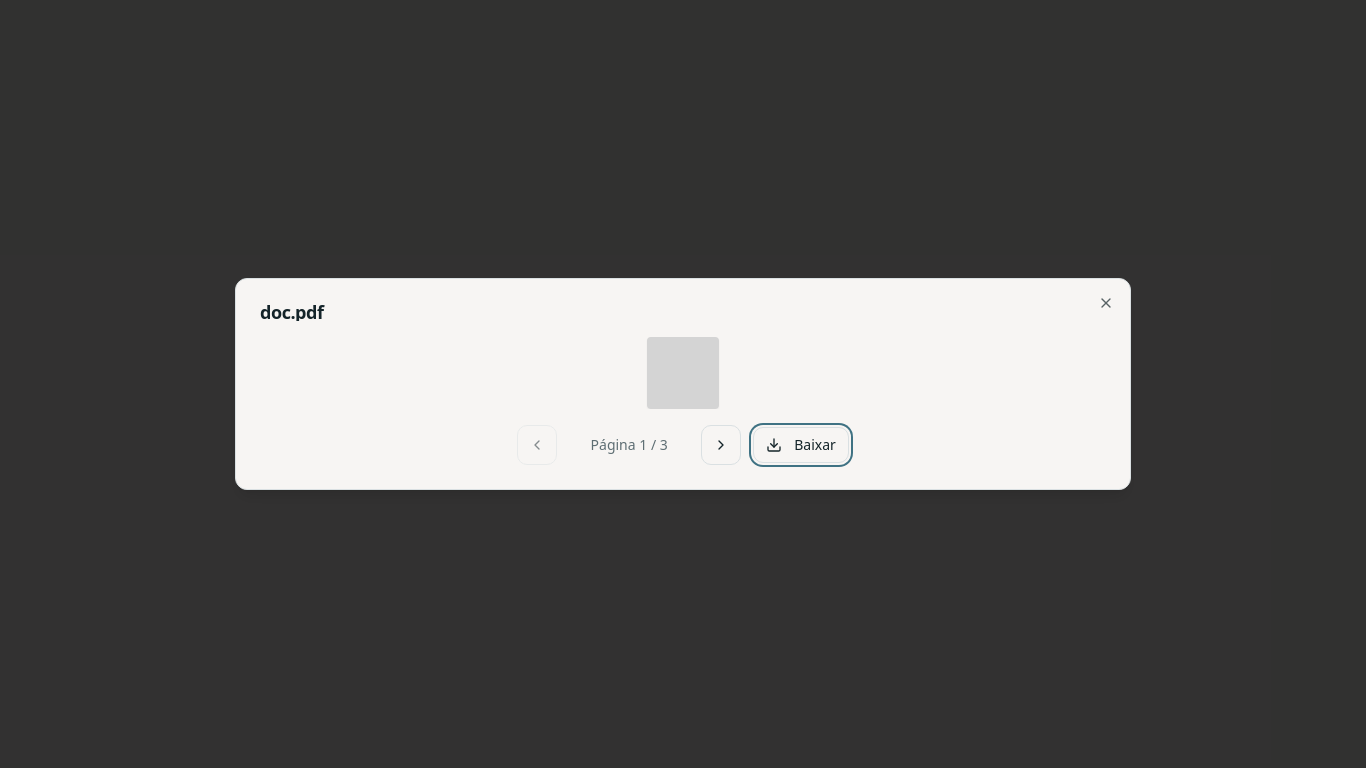
Test: PdfPreviewModal › navigates pages forward and backward via the chevron buttons
Check: the text "Página 1 / 3" is shown, box [591,435,668,454]
Click the 3rd button: [721, 445] box [701,425,741,465]
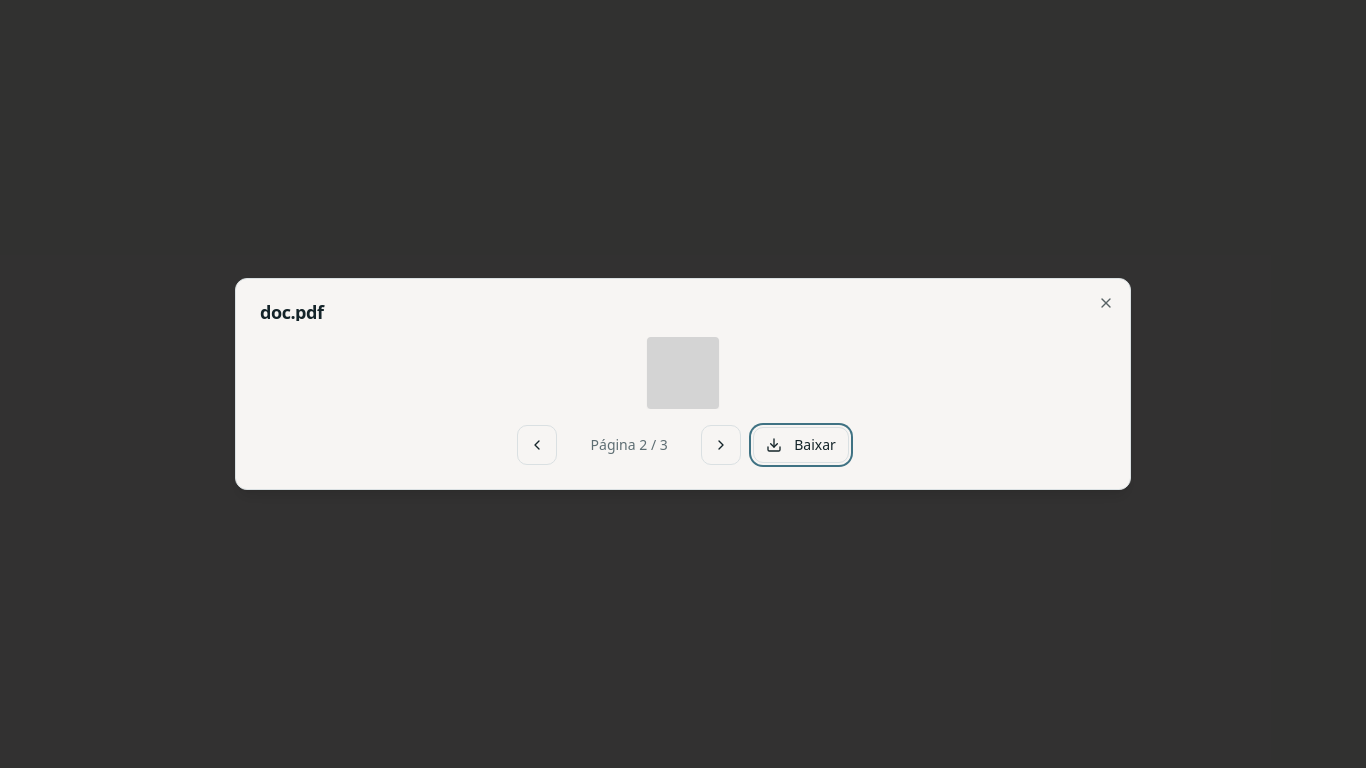
Check: the text "Página 2 / 3" is shown, box [591,435,668,454]
Click the 2nd button: [537, 445] box [517,425,557,465]
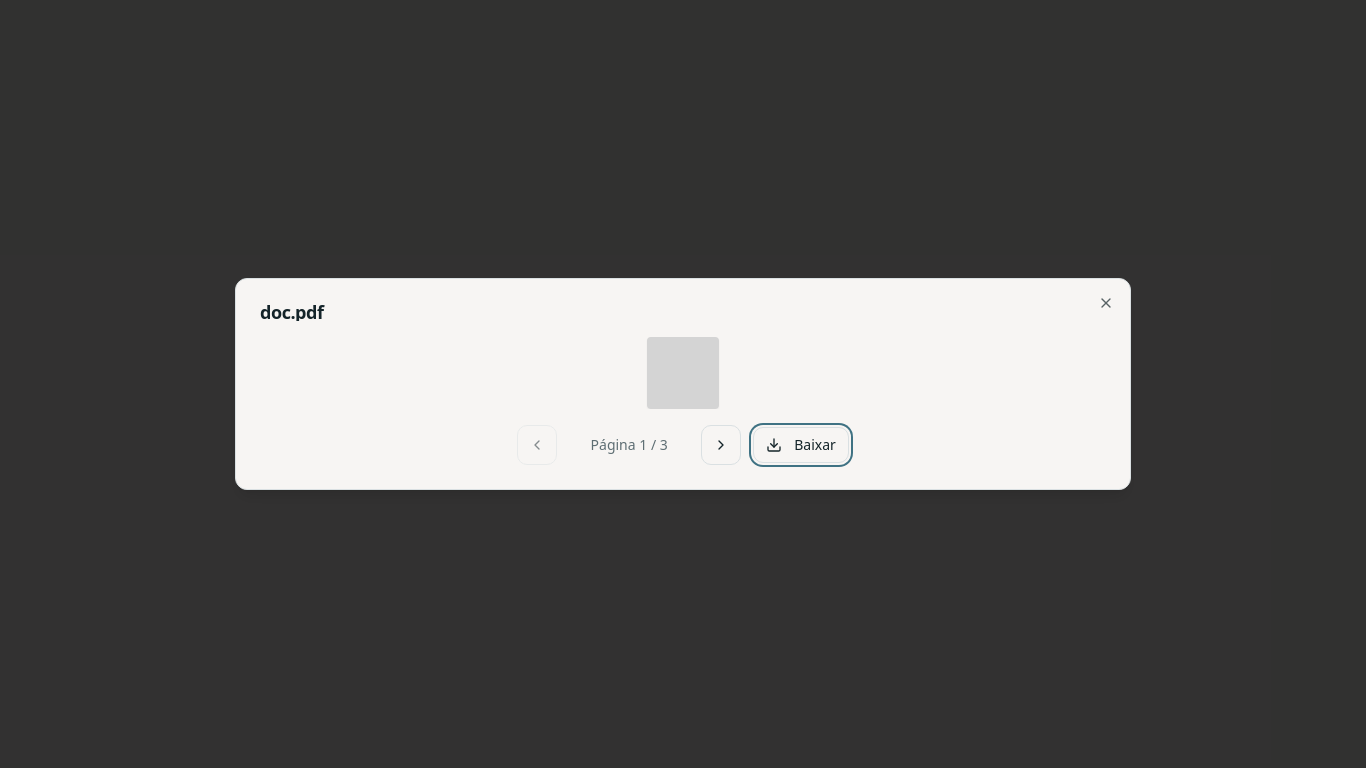
Check: the text "Página 1 / 3" is shown, box [591,435,668,454]
